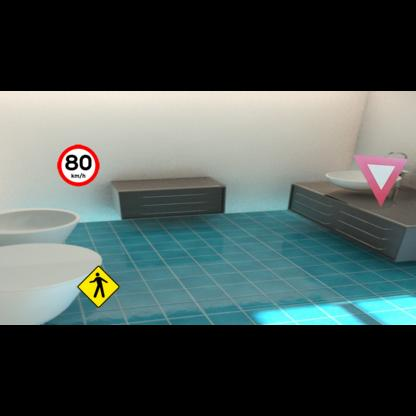A-32a: (77, 265, 120, 308)
R-19: (57, 145, 99, 187)
R-2: (353, 154, 408, 207)
